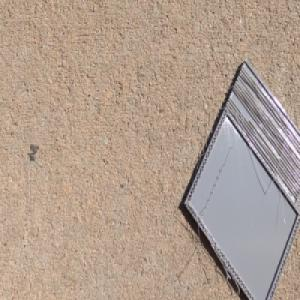PlasticPart: (182, 56, 300, 300)
